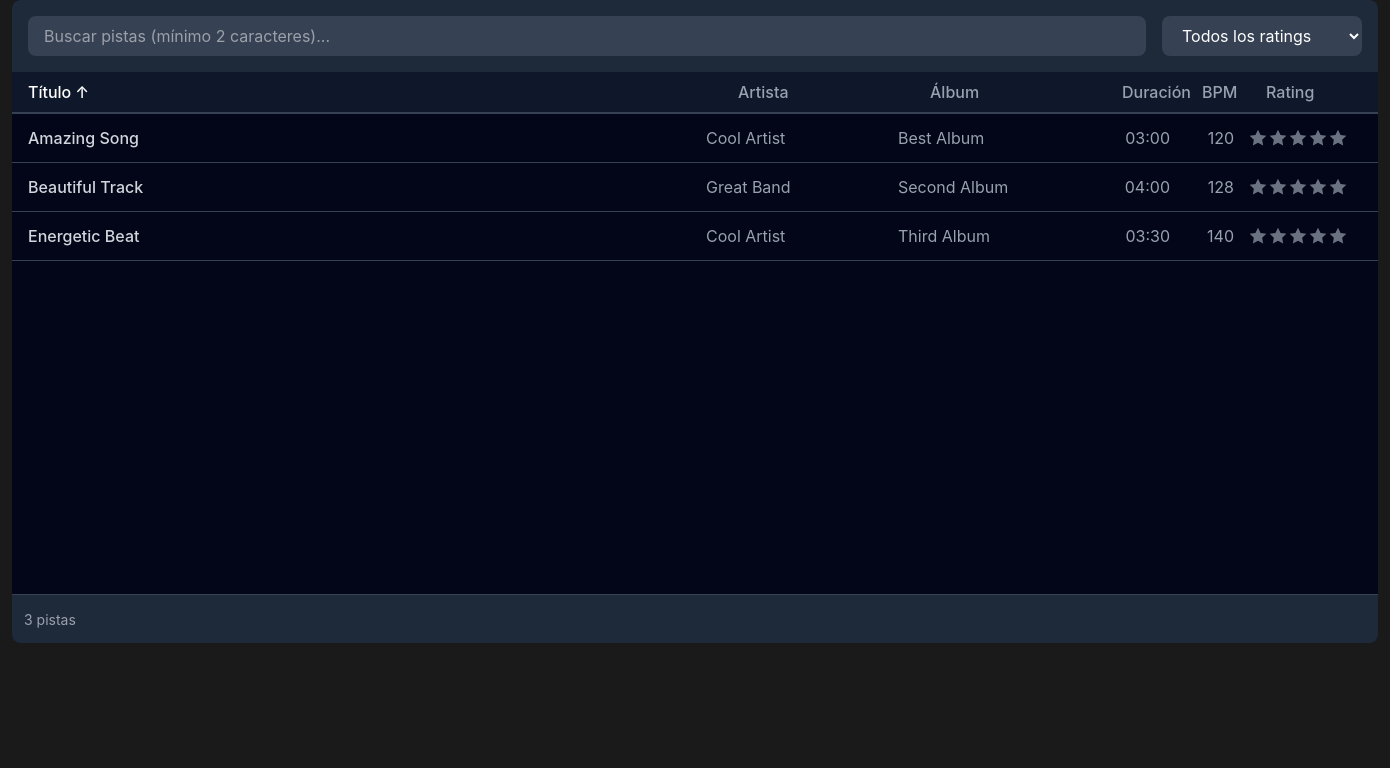
TrackList › debería ordenar por artista
This screenshot has width=1390, height=768.
Click the button "Artista". click: click(818, 92)
box: [722,72,914,112]
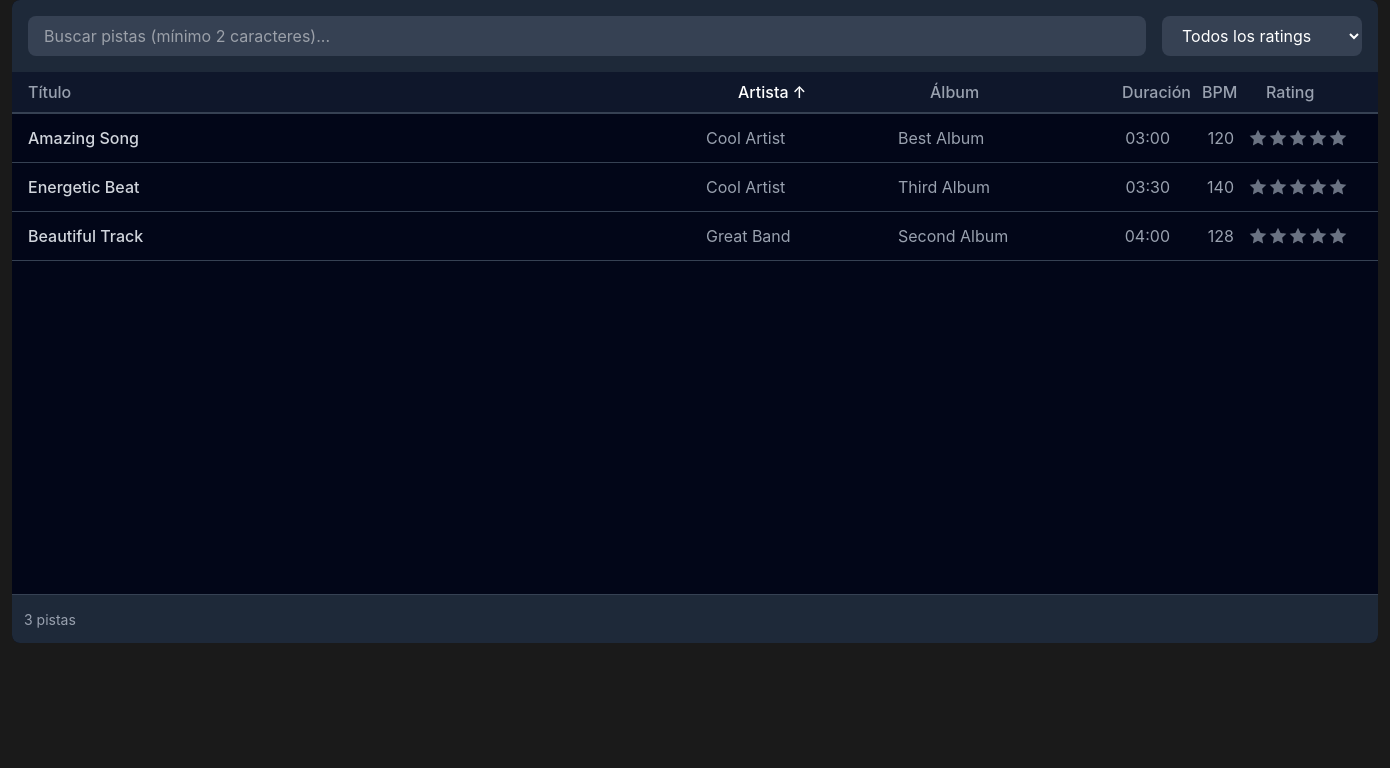
Expected: the row "Amazing Song Cool Artist Best Album 03:00 120" is shown, [12,114,1378,163]
Result: the row "Energetic Beat Cool Artist Third Album 03:30 140" is shown at [12,163,1378,212]
Result: the row "Beautiful Track Great Band Second Album 04:00 128" is shown at [12,212,1378,261]
